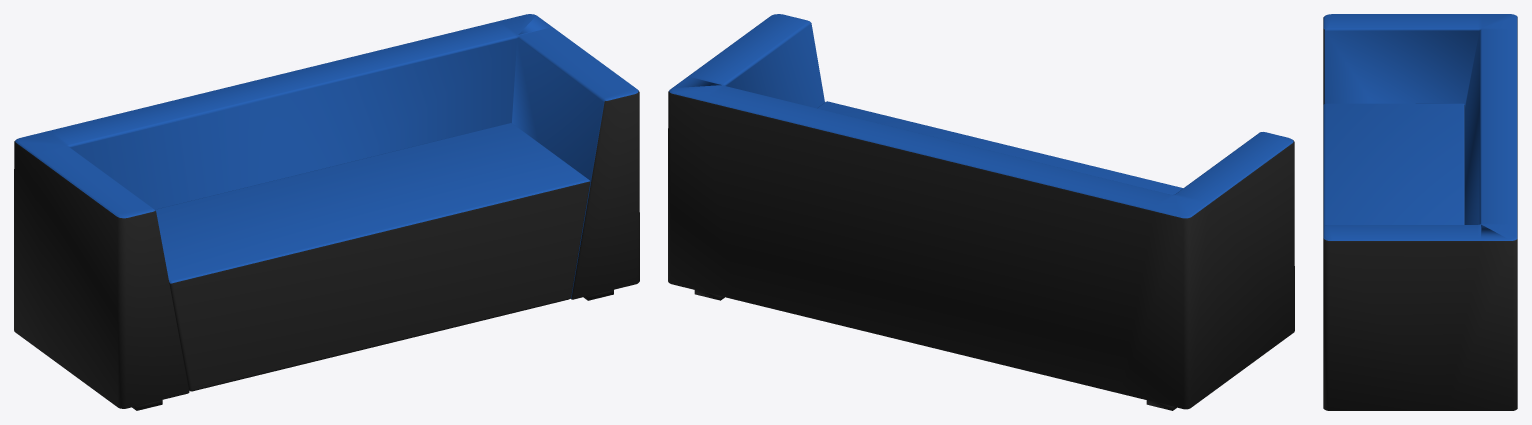
File: bit-sohva.fbx
3 renders of one model, left to right at view 1: azimuth 30°, elevation 25°; view 2: azimuth 150°, elevation 25°; view 3: azimuth 270°, elevation 25°, orthographic. The views are drawn at different scales.
Parts seen in each view (by area): view 1: 344IK_upholstered_seat, 344SK_upholstered_back; view 2: 344SK_upholstered_back, 344IK_upholstered_seat; view 3: 344IK_upholstered_seat, 344SK_upholstered_back.
Boxes of the visible parts, x1=… form: 344IK_upholstered_seat: x1=15, y1=14, x2=638, y2=298; 344SK_upholstered_back: x1=14, y1=90, x2=639, y2=408; 344SK_upholstered_back: x1=668, y1=91, x2=1294, y2=409; 344IK_upholstered_seat: x1=669, y1=14, x2=1293, y2=218; 344IK_upholstered_seat: x1=1323, y1=14, x2=1517, y2=240; 344SK_upholstered_back: x1=1323, y1=17, x2=1517, y2=410.
Size of the model in its own units: 1802 by 666 by 653.
